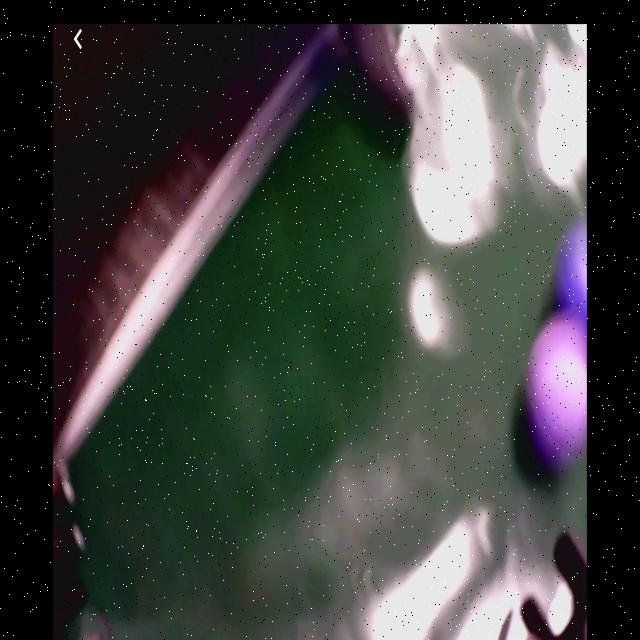ball: (529, 315, 587, 465), (558, 226, 589, 327)
